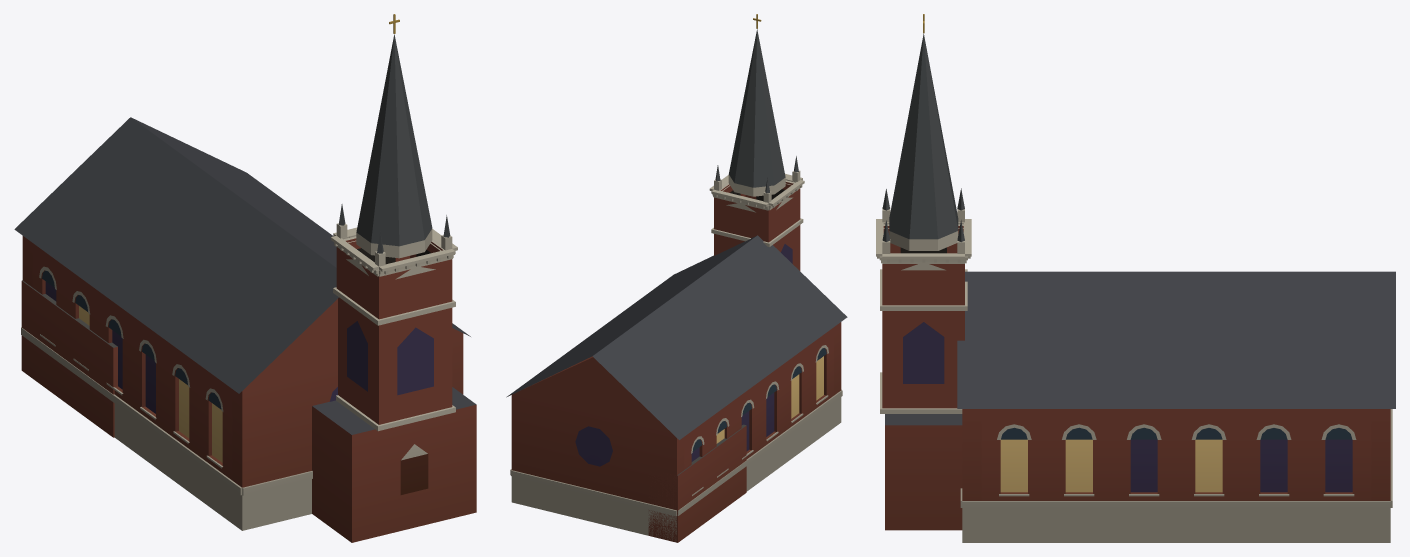
File: congregational.glb
3 views of the same model, side by side, from view 1: azimuth 30°, elevation 25°; view 2: azimuth 150°, elevation 25°; view 3: azimuth 270°, elevation 25° (orthographic). The views are drawn at different scales.
Visible parts, largest first — view 1: congregational_lod0; view 2: congregational_lod0; view 3: congregational_lod0.
Boxes of the visible parts, x1,y1,x2,y2 form: congregational_lod0: [14, 14, 476, 542]; congregational_lod0: [506, 14, 847, 542]; congregational_lod0: [876, 14, 1395, 542].
Size of what is drawn, in the model's own units: 20.3 by 41.6 by 40.3.
